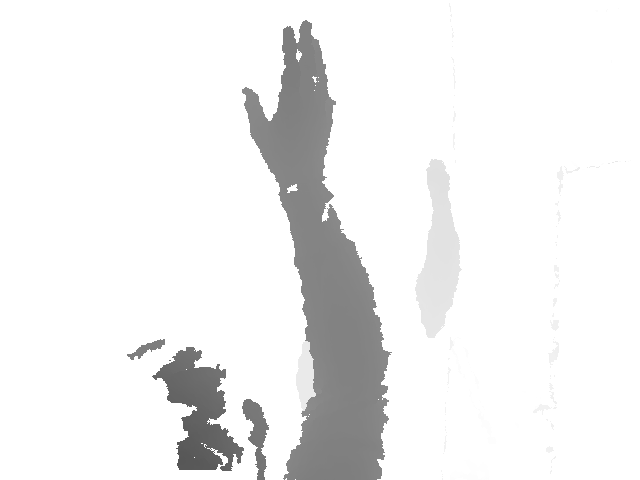hand: (242, 20, 334, 179), (426, 159, 451, 213)
person: (124, 20, 392, 480), (292, 159, 461, 415)
